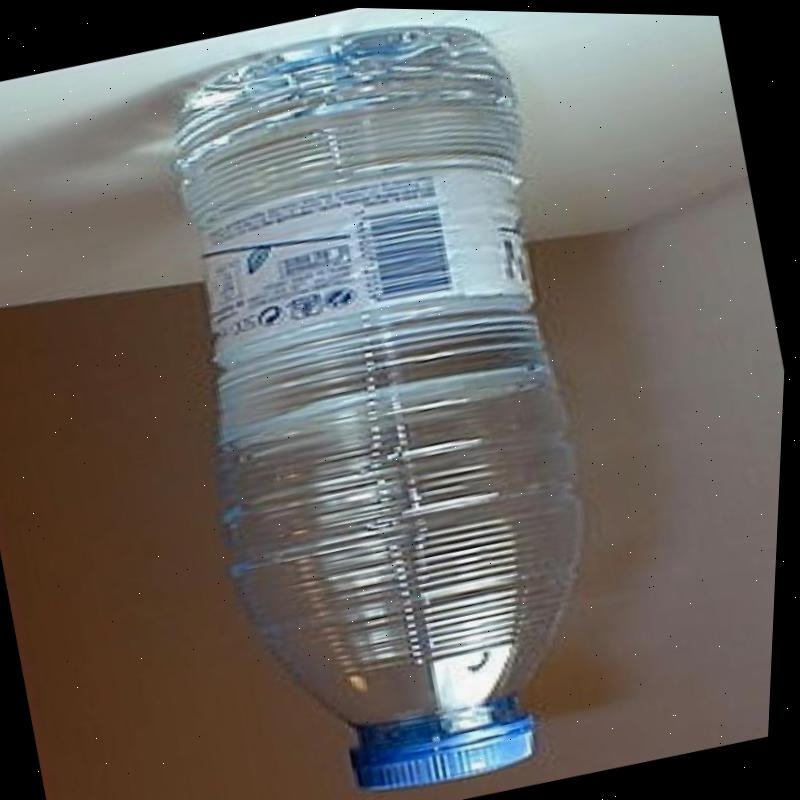botella: (98, 2, 677, 800)
